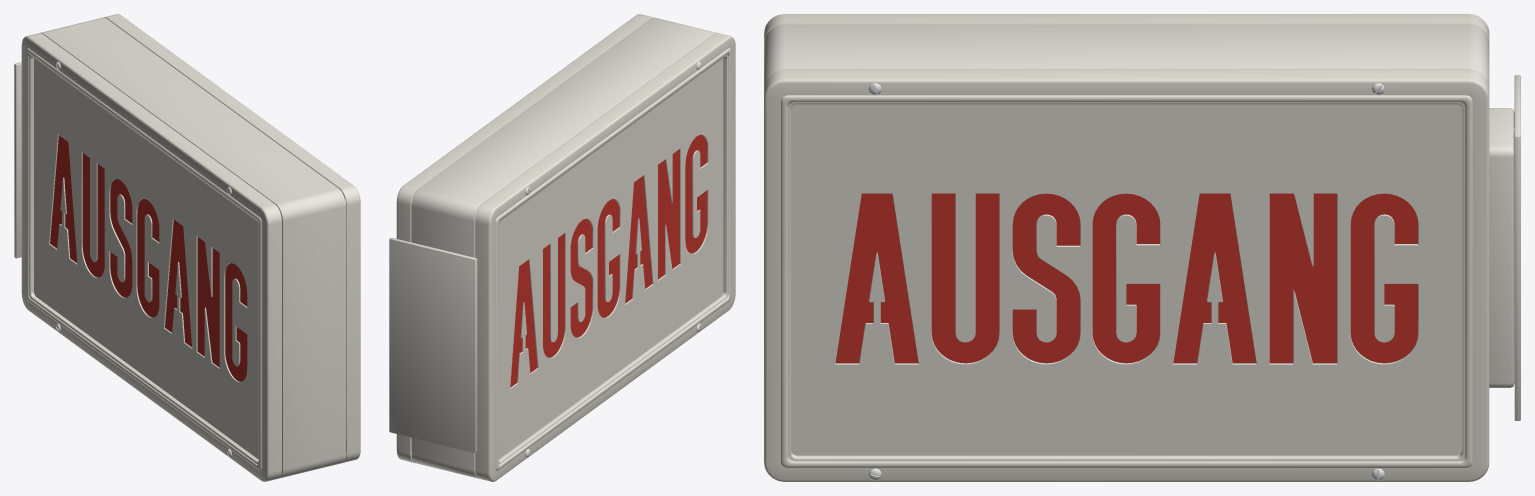
File: Kit_ExitSign_End.fbx
The picture shows the model from 3 angles, left to right: view 1: azimuth 30°, elevation 25°; view 2: azimuth 150°, elevation 25°; view 3: azimuth 270°, elevation 25°; orthographic projection. The views are drawn at different scales.
Visible parts, largest first — view 1: Kit_ExitSign_End_LOD0; view 2: Kit_ExitSign_End_LOD0; view 3: Kit_ExitSign_End_LOD0.
Boxes of the visible parts, left/top/right/bottom form: Kit_ExitSign_End_LOD0: left=14, top=14, right=360, bottom=481; Kit_ExitSign_End_LOD0: left=389, top=14, right=735, bottom=481; Kit_ExitSign_End_LOD0: left=764, top=14, right=1520, bottom=481.
Size of what is drawn, in the model's own units: 0.0789 by 0.212 by 0.361.
